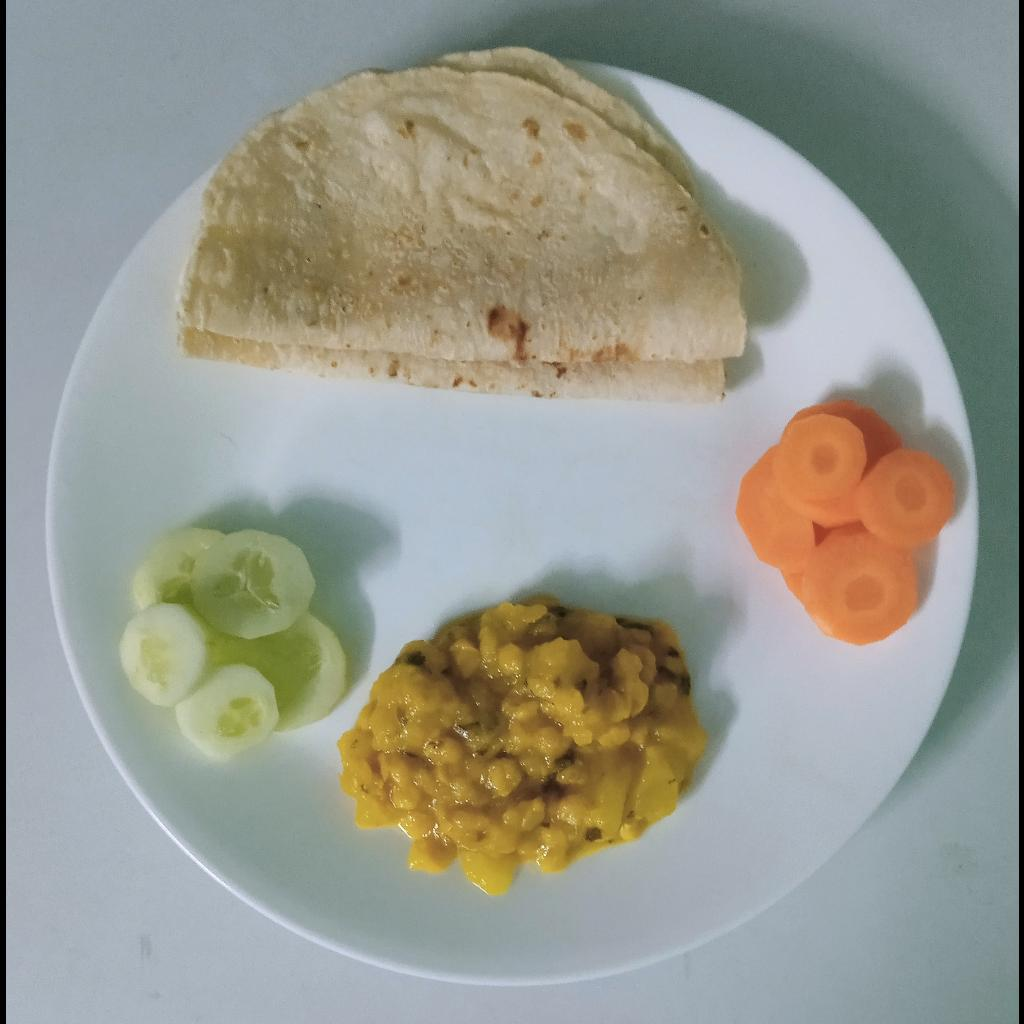carrot: (734, 398, 955, 647)
cucumber: (118, 527, 344, 758)
daal: (339, 592, 702, 899)
ruti: (173, 46, 746, 404)
